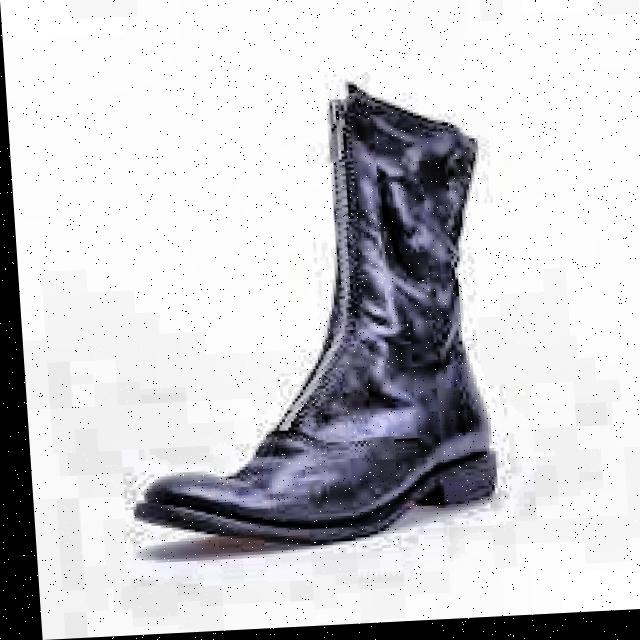shoes: (82, 57, 617, 575)
